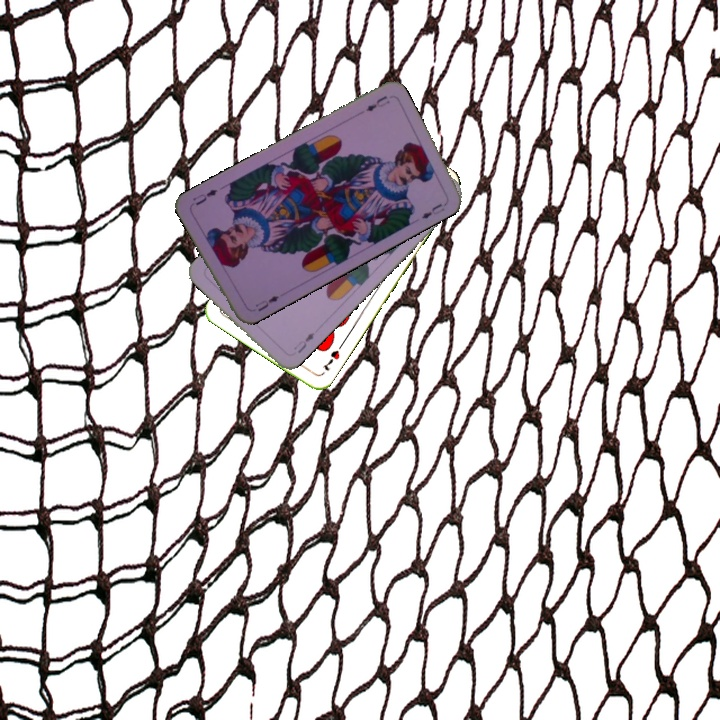EU: (290, 328, 317, 356), (251, 291, 282, 314), (362, 91, 392, 114)
H7: (318, 346, 342, 373)
